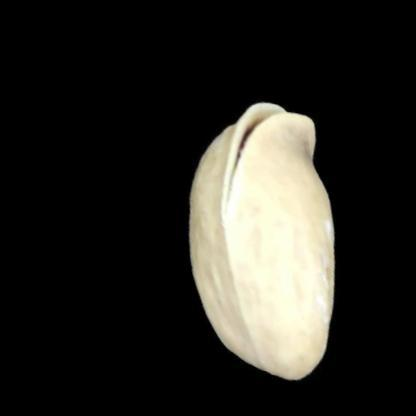pistachio: (180, 98, 339, 385)
